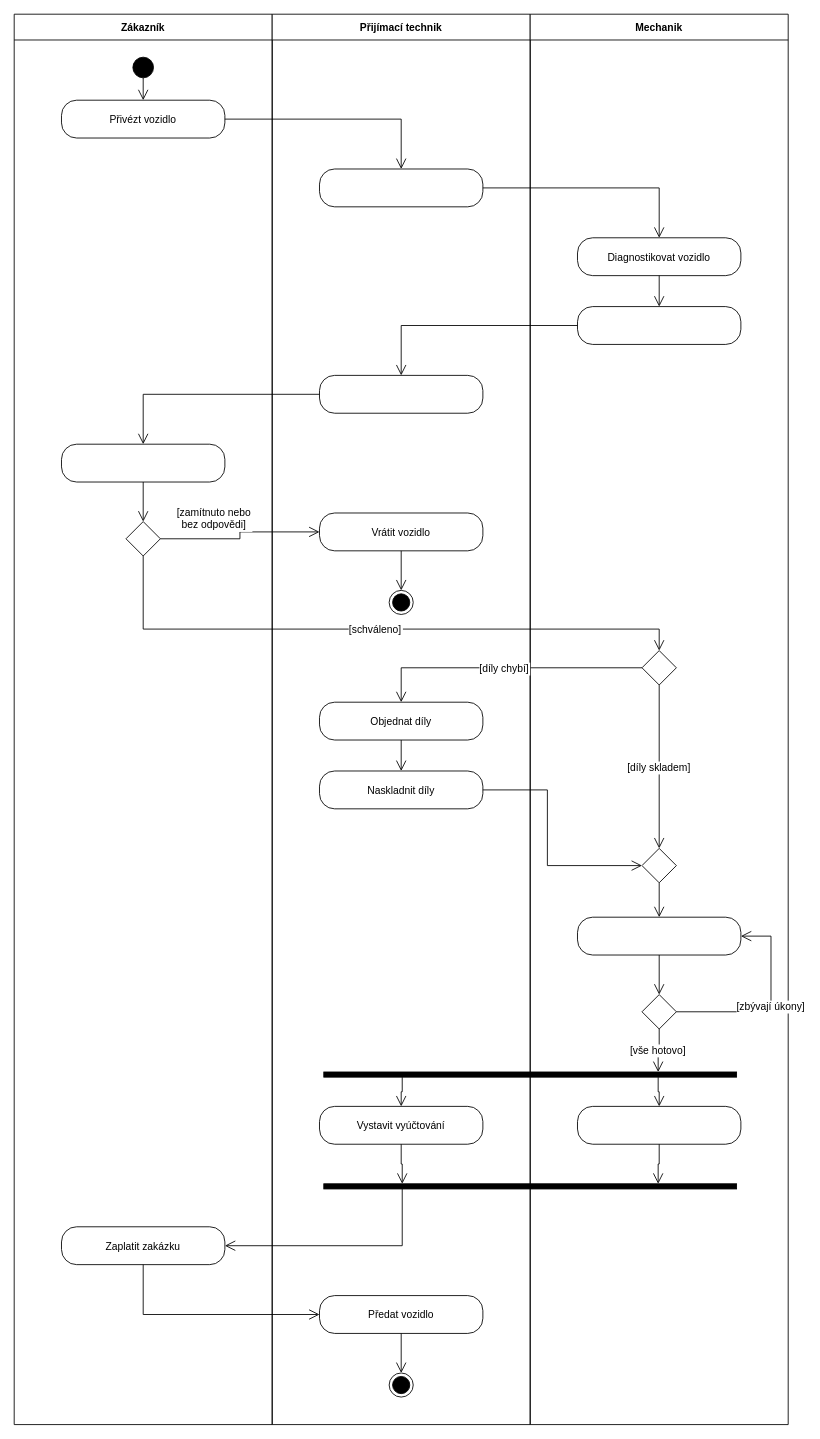
Image size: 820x1439. Some labels were removed from this diagram. Here are the shapes that lost their labels. From the top down, the centre of each, then its label:
the point at 401,187: Založit zakázku
the point at 659,325: Ověřit dostupnost dílů a spočítat kalkulaci
the point at 401,394: Předložit kalkulaci
the point at 143,462: Posoudit kalkulaci
the point at 659,935: Provést úkon opravy
the point at 659,1125: Provést výstupní kontrolu
